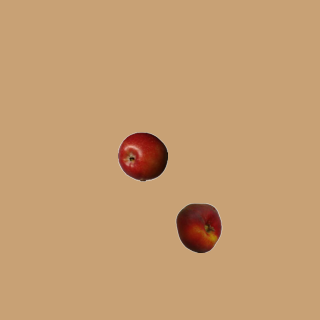Apple Braeburn: (117, 131, 167, 181)
Nectarine Flat: (173, 202, 223, 252)
